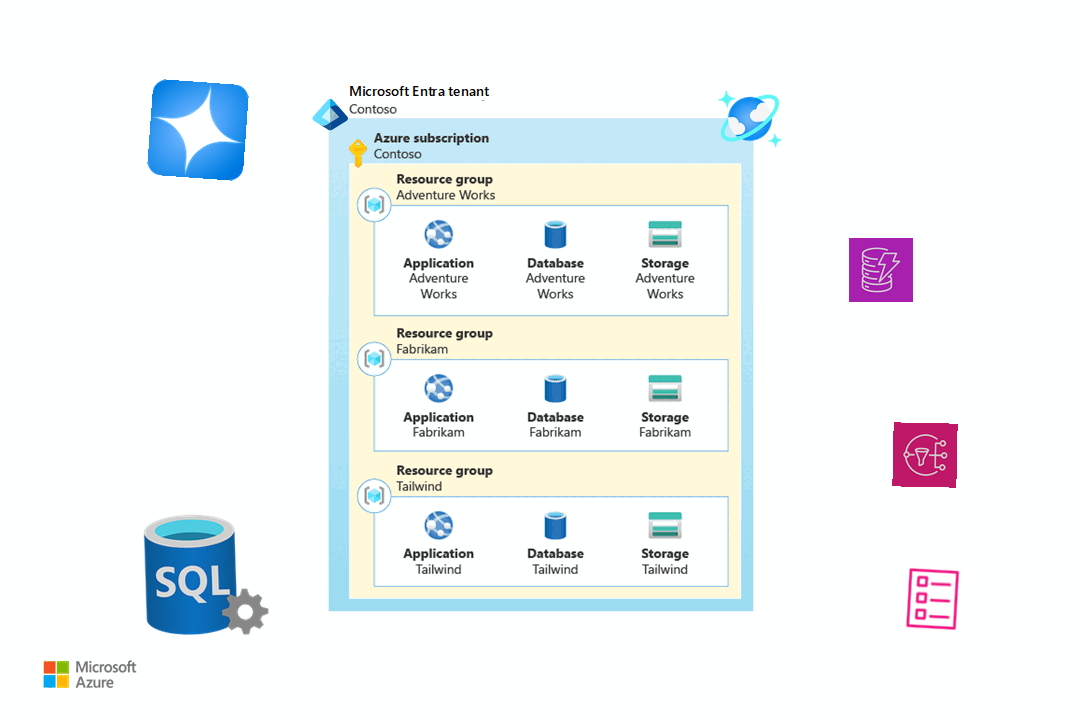aws_amazon_dynamodb: (848, 237, 914, 303)
aws_amazon_simple_notification_service: (892, 422, 958, 488)
aws_cloudformation_template: (898, 565, 966, 633)
azure_cosmos_db: (715, 84, 785, 154)
azure_openai: (146, 78, 250, 182)
azure_sql_server: (140, 509, 272, 641)
